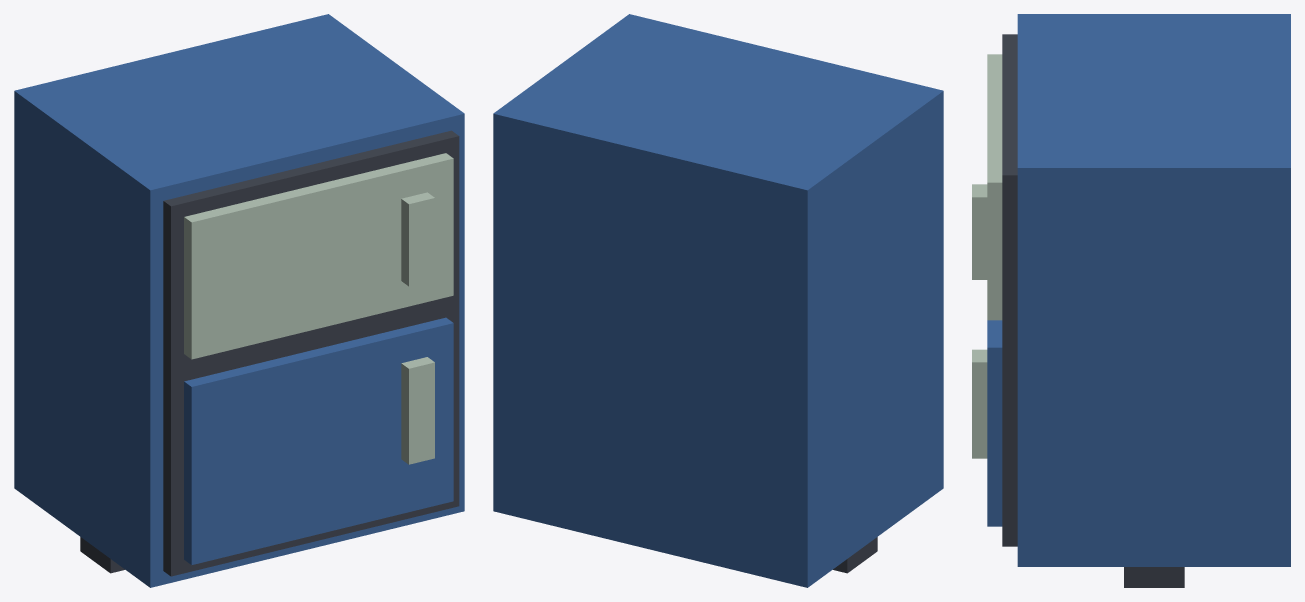
The model's file is voxel_32_20007.glb.
The picture shows the model from 3 angles, left to right: view 1: azimuth 30°, elevation 25°; view 2: azimuth 150°, elevation 25°; view 3: azimuth 270°, elevation 25°; orthographic projection.
Parts seen in each view (by area): view 1: prop_20007; view 2: prop_20007; view 3: prop_20007.
Part boxes in pixels (x1,y1,x2,y2): prop_20007: [14, 14, 464, 587]; prop_20007: [493, 14, 943, 587]; prop_20007: [972, 14, 1290, 587].
Bounding box in the file's own units: 0.6225 × 0.8041 × 0.5447.
